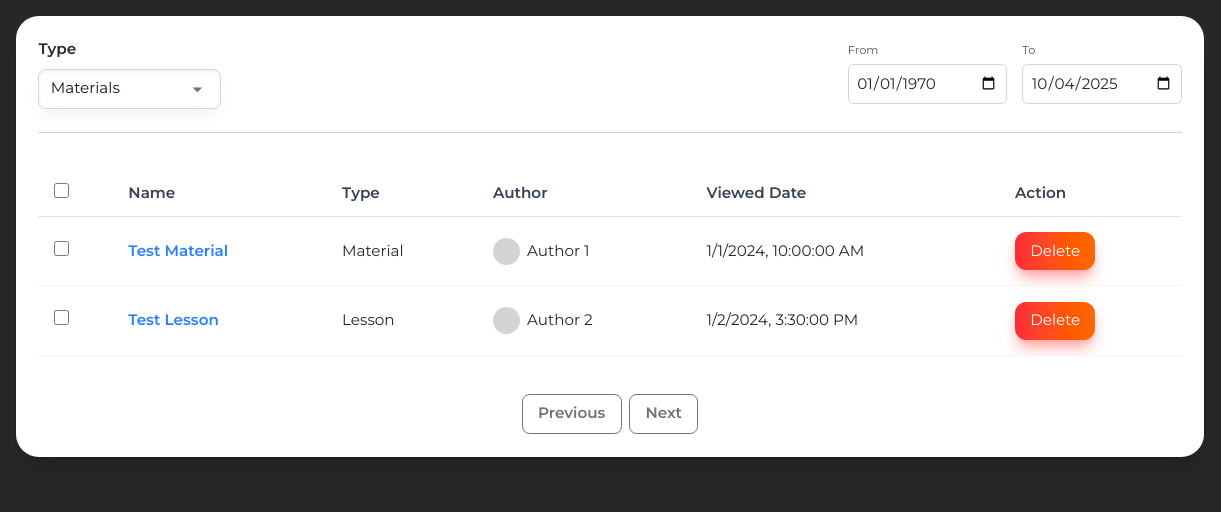
Scenario: HistoryPage Component › Entry Selection › should handle individual entry selection
Expected: the text "Test Material" is shown, top-left (113, 217), bottom-right (327, 286)
Click the checkbox next to "Test Material" at (61, 248), box top-left (54, 241), bottom-right (69, 256)
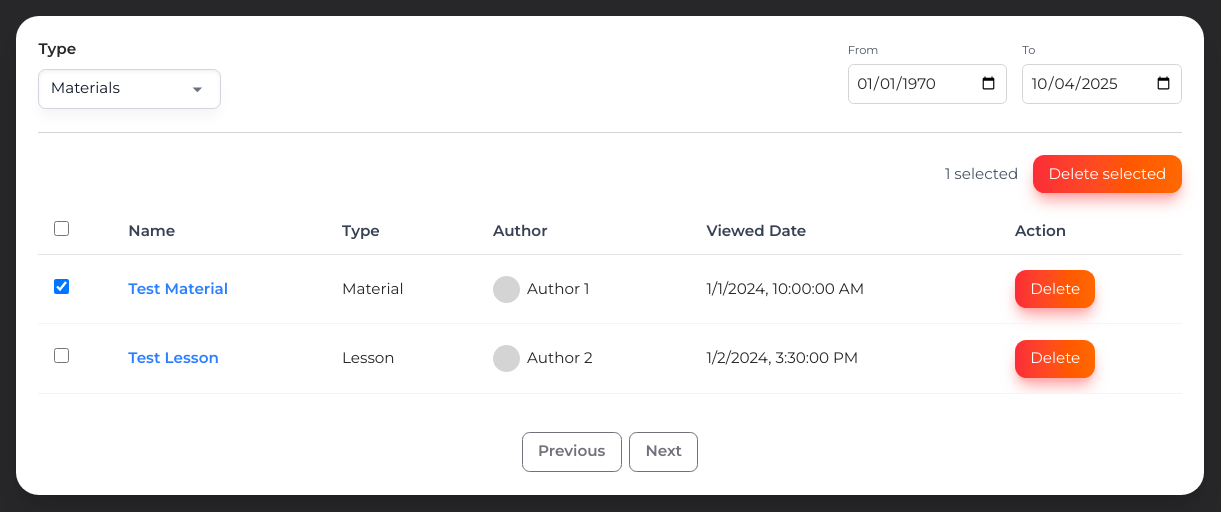
Now the text "1 selected" is shown, box top-left (945, 163), bottom-right (1018, 186)
